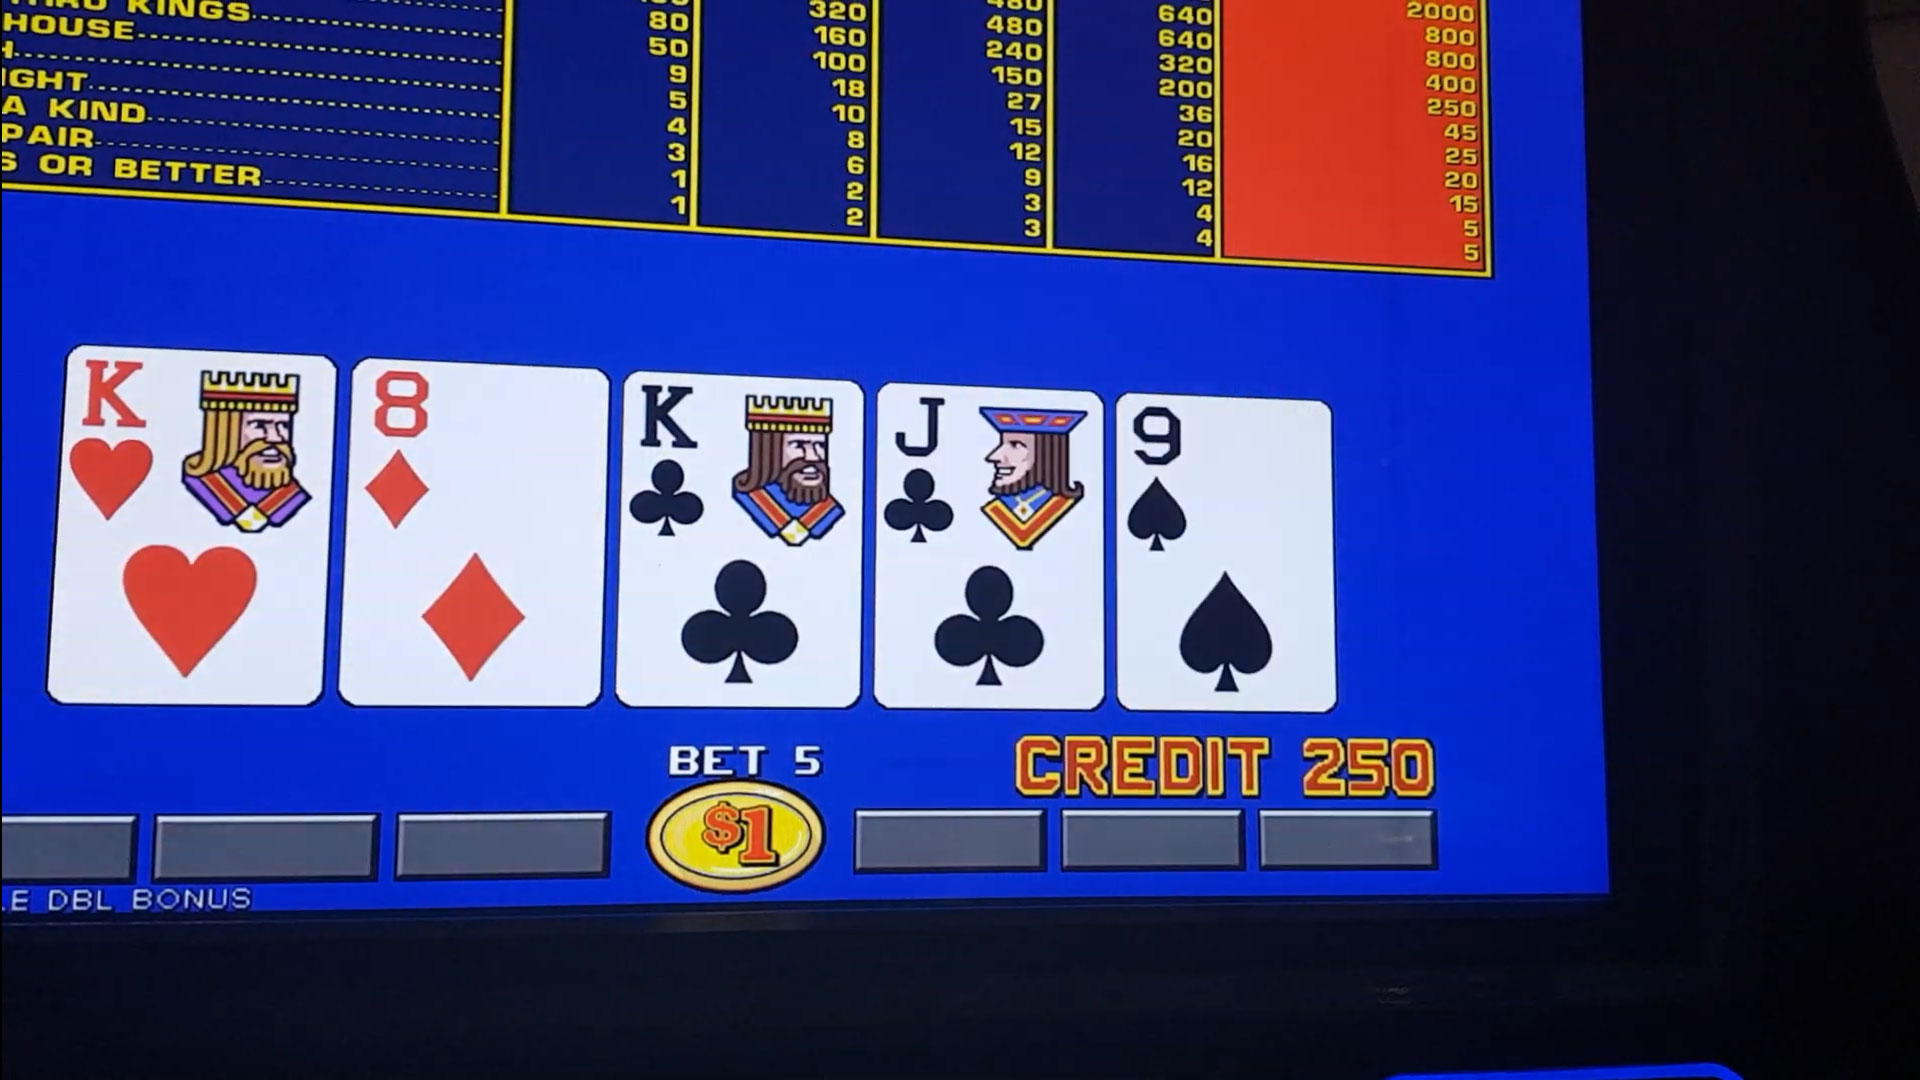CJ: (884, 394, 1095, 556)
CK: (626, 386, 855, 553)
D8: (359, 373, 595, 543)
HK: (70, 356, 332, 533)
S9: (1122, 407, 1325, 564)
